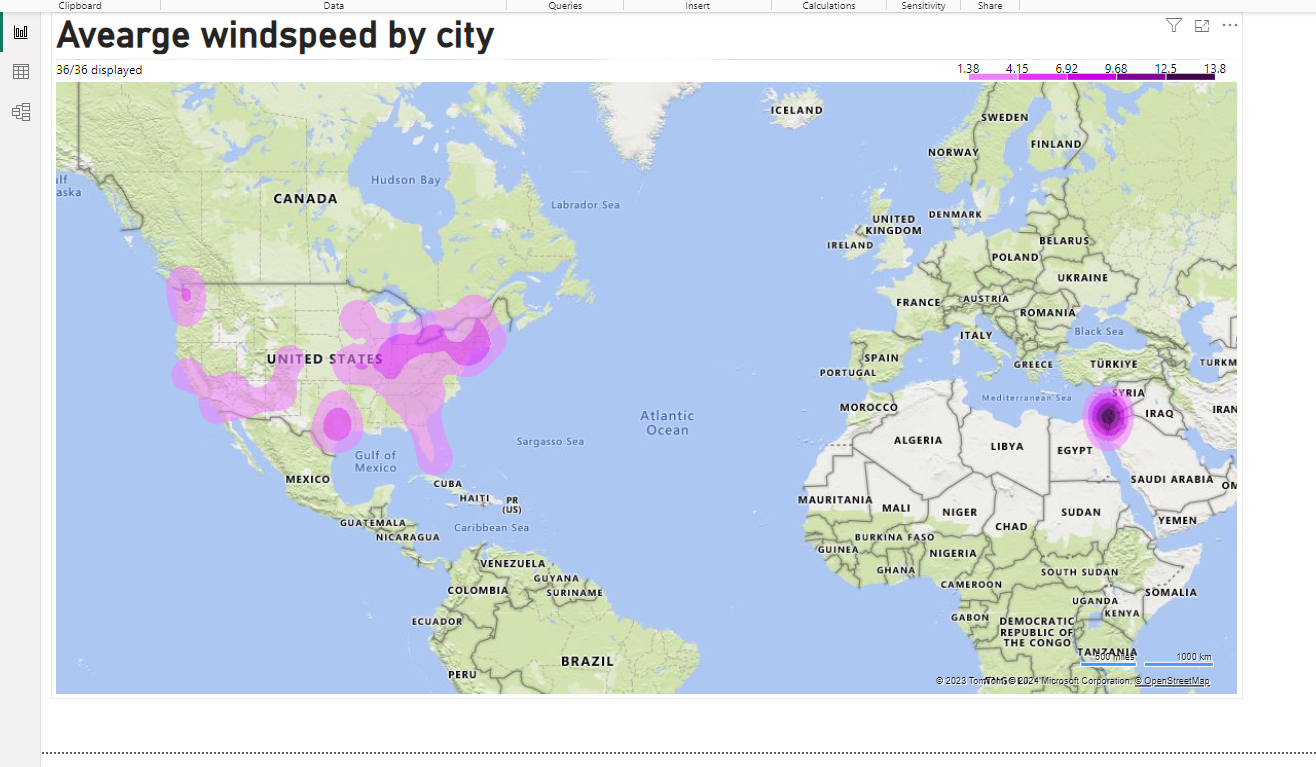

The dashboard page shown, as its layout file describes it:
{"tool":"powerbi","page":{"name":"windspeedheatmap","canvas":[1280,720],"ordinal":2},"visuals":[{"type":"heatmapF244EA9EE1F34E828A80CF19B41976F8","title":"Avearge windspeed  by city","fields":{"location":["windspeed.city"],"value":["Sum(windspeed.pressure)"]},"box":[9.7,0,1159.4,668.2],"z":0}]}

Visuals, with their boxes on the page's 1280x720 design canvas (x1, y1, x2, y2). These are canvas units, not pixel positions in the 1316x767 screenshot, which may show the page scaled, cropped or inside an application window:
"Avearge windspeed  by city" heatmapF244EA9EE1F34E828A80CF19B41976F8: [x1=10, y1=0, x2=1169, y2=668]
